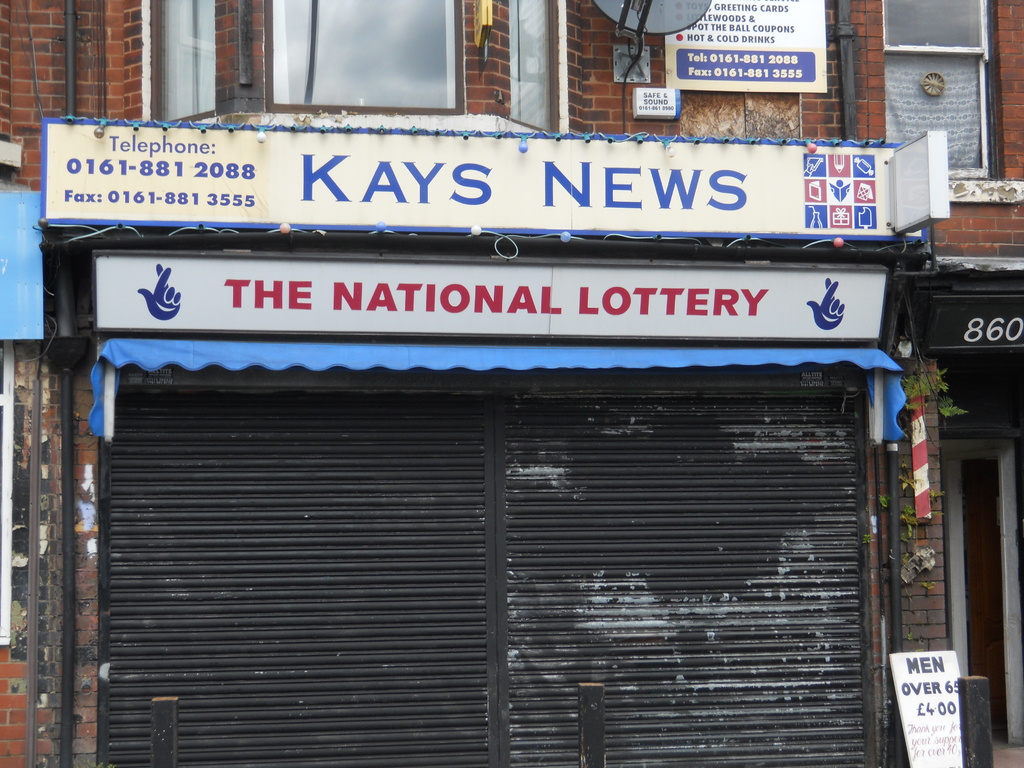signboard: (42, 113, 963, 246), (89, 250, 889, 338)
window: (276, 1, 452, 103)
